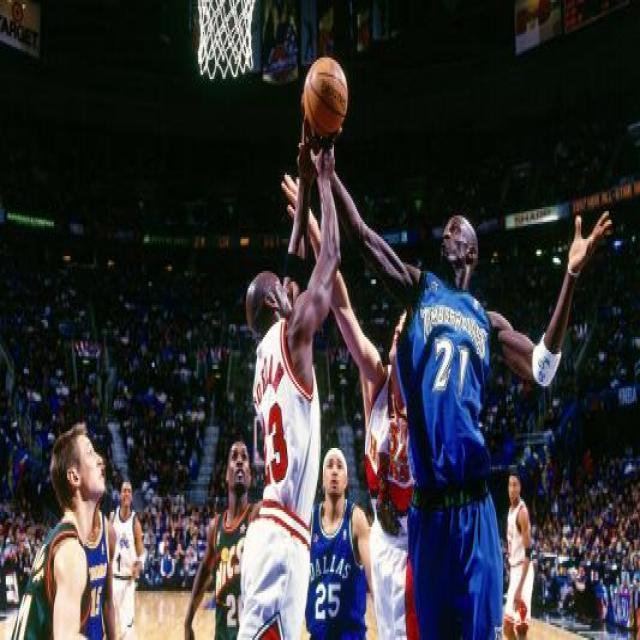rim: (304, 51, 348, 139)
